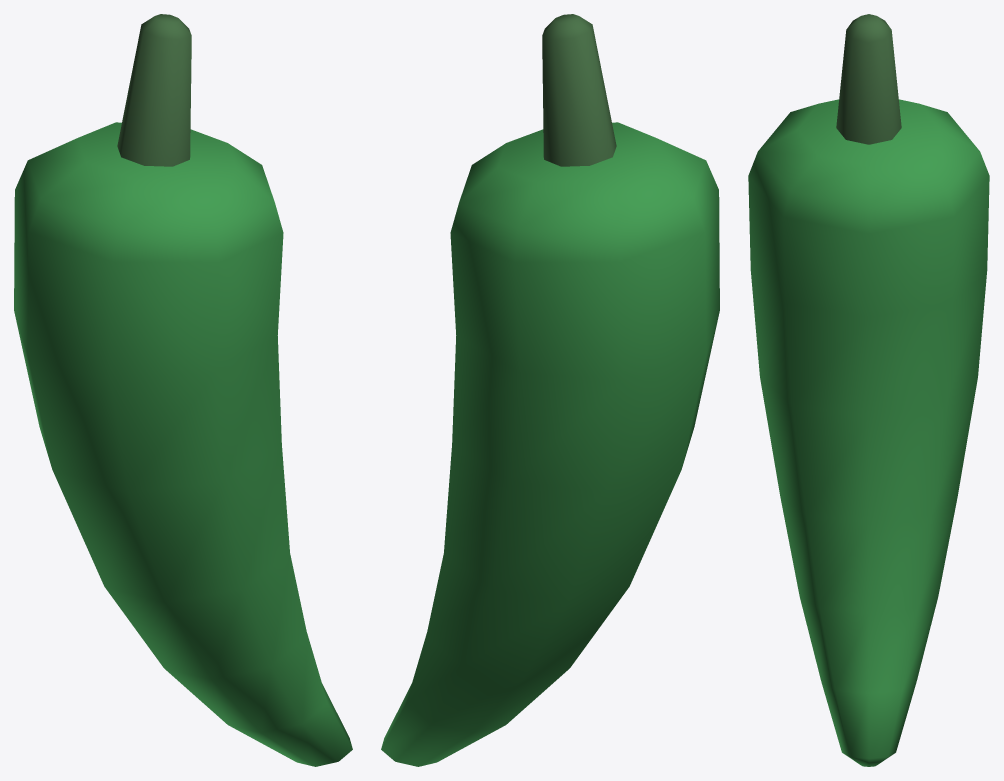
File: Pepper_01_Green.fbx
3 renders of one model, left to right at view 1: azimuth 30°, elevation 25°; view 2: azimuth 150°, elevation 25°; view 3: azimuth 270°, elevation 25°, orthographic. The views are drawn at different scales.
Parts seen in each view (by area): view 1: Pepper_01_Green; view 2: Pepper_01_Green; view 3: Pepper_01_Green.
Part boxes in pixels (<box>): Pepper_01_Green: <box>14,14,352,766</box>; Pepper_01_Green: <box>381,14,719,766</box>; Pepper_01_Green: <box>748,14,989,766</box>.
Size of the model in its own units: 0.1572 by 0.3655 by 0.1178.
